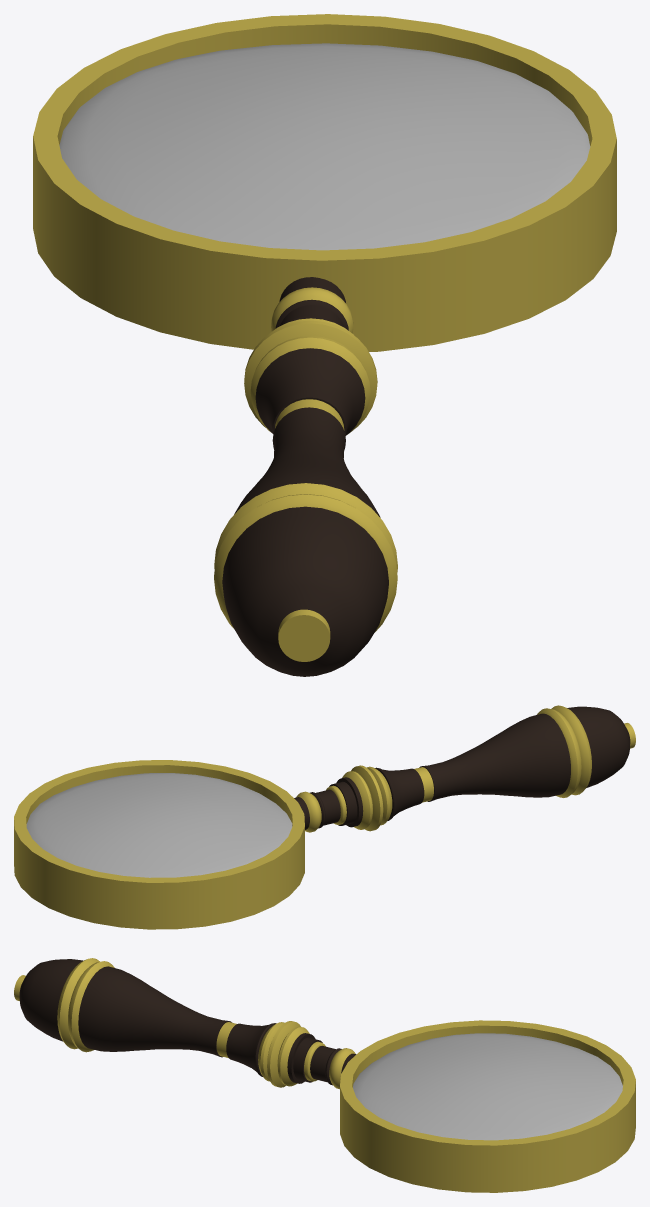
File: F_Lupa.fbx
3 views of the same model, one above another, from view 1: azimuth 30°, elevation 25°; view 2: azimuth 150°, elevation 25°; view 3: azimuth 270°, elevation 25° (orthographic). The views are drawn at different scales.
Visible parts, largest first — view 1: F_Lupa; view 2: F_Lupa; view 3: F_Lupa.
Part boxes in pixels (x1,y1,x2,y2): F_Lupa: (33,14,616,676); F_Lupa: (14,705,635,929); F_Lupa: (14,958,635,1192).
Bounding box in the file's own units: 16.72 × 3.5 × 23.3.
